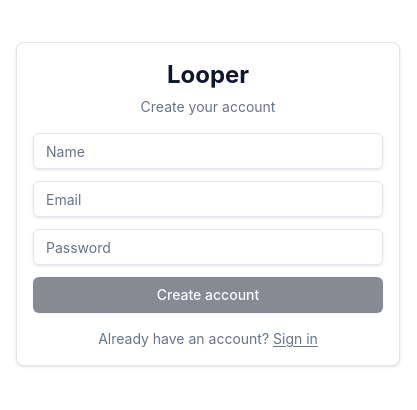
Scenario: <RegisterPage /> › falls back to generic error when err not Error
Type "A" into the field with placeholder "Name".
click(208, 151); type("A")  # box left=33, top=133, right=383, bottom=169
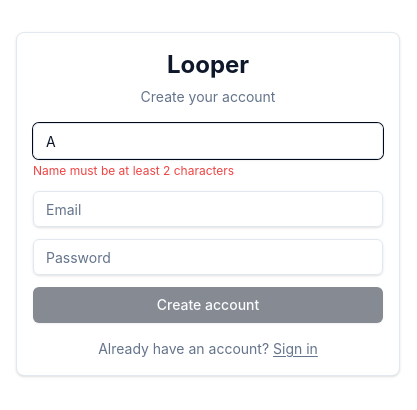
Type "a@b.co" into the field with placeholder "Email".
click(208, 209); type("a@b.co")  # box left=33, top=191, right=383, bottom=227
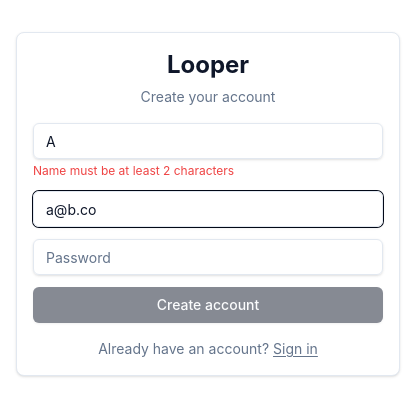
Type "pw12345" into the password field with placeholder "Password".
click(208, 257); type("pw12345")  # box left=33, top=239, right=383, bottom=275
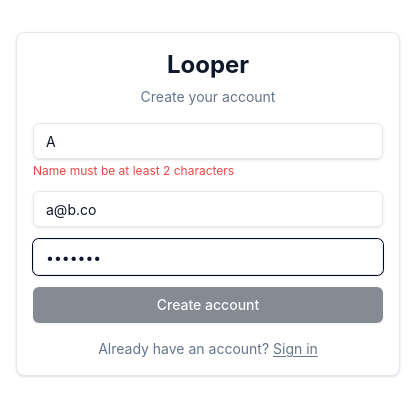
Click the button "Create account".
click(208, 305)  # box left=33, top=287, right=383, bottom=323
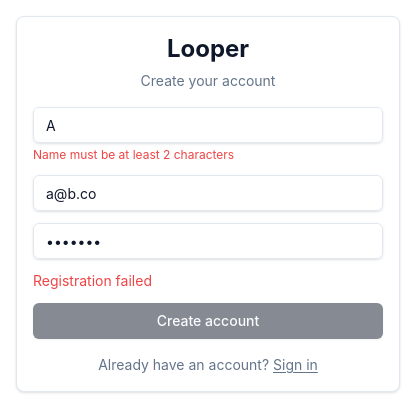
Result: the message "Registration failed" is shown at left=33, top=272, right=152, bottom=289
